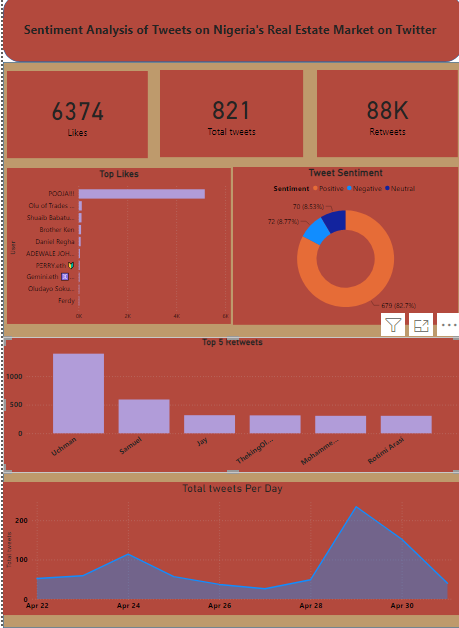

The dashboard page shown, as its layout file describes it:
{"tool":"powerbi","page":{"name":"Page 2","canvas":[1000,1380],"ordinal":2},"visuals":[{"type":"shape","box":[0,146.1,1000.7,1233.9],"z":0},{"type":"card","fields":{"Values":["_Measures.Likes"]},"box":[8.7,165.7,307.4,189.7],"z":1000},{"type":"shape","box":[0,0,1000.9,145.6],"z":2000},{"type":"textbox","box":[0,50.1,1129.3,69.8],"z":3000},{"type":"card","fields":{"Values":["_Measures.Total tweets"]},"box":[342.3,163.5,311.8,189.7],"z":4000},{"type":"card","fields":{"Values":["_Measures.Retweets"]},"box":[684.5,163.5,307.4,189.7],"z":5000},{"type":"areaChart","title":"Total tweets Per Day","fields":{"Category":["Cleaned_real_estate_tweets.Date_created.Variation.Date Hierarchy.Year","Cleaned_real_estate_tweets.Date_created.Variation.Date Hierarchy.Quarter","Cleaned_real_estate_tweets.Date_created.Variation.Date Hierarchy.Month","Cleaned_real_estate_tweets.Date_created.Variation.Date Hierarchy.Day"],"Y":["_Measures.Total tweets"]},"box":[0,1061.7,1000,290],"z":6000},{"type":"donutChart","title":"Tweet Sentiment","fields":{"Category":["Cleaned_real_estate_tweets.Sentiment"],"Y":["_Measures.Total tweets"]},"box":[501.4,375,490.5,344.5],"z":7000},{"type":"clusteredBarChart","title":"Top Likes","fields":{"Category":["Cleaned_real_estate_tweets.User"],"Y":["_Measures.Likes"]},"box":[8.7,377.2,488.3,340.1],"z":8000},{"type":"clusteredColumnChart","title":"Top 5 Retweets","fields":{"Category":["Cleaned_real_estate_tweets.User"],"Y":["_Measures.Retweets"]},"box":[0,745.6,1000,296.5],"z":9000}]}

Visuals, with their boxes in screenshot pixels (x1, y1, x2, y2), scaled from the page's 1000x1380 canvas onto the 459x628 screenshot:
shape: (0, 66, 458, 627)
card - _Measures.Likes: (4, 75, 145, 162)
shape: (0, 0, 458, 66)
textbox: (0, 23, 458, 55)
card - _Measures.Total tweets: (157, 74, 300, 161)
card - _Measures.Retweets: (314, 74, 455, 161)
"Total tweets Per Day" areaChart: (0, 483, 458, 615)
"Tweet Sentiment" donutChart: (230, 171, 455, 327)
"Top Likes" clusteredBarChart: (4, 172, 228, 326)
"Top 5 Retweets" clusteredColumnChart: (0, 339, 458, 474)
